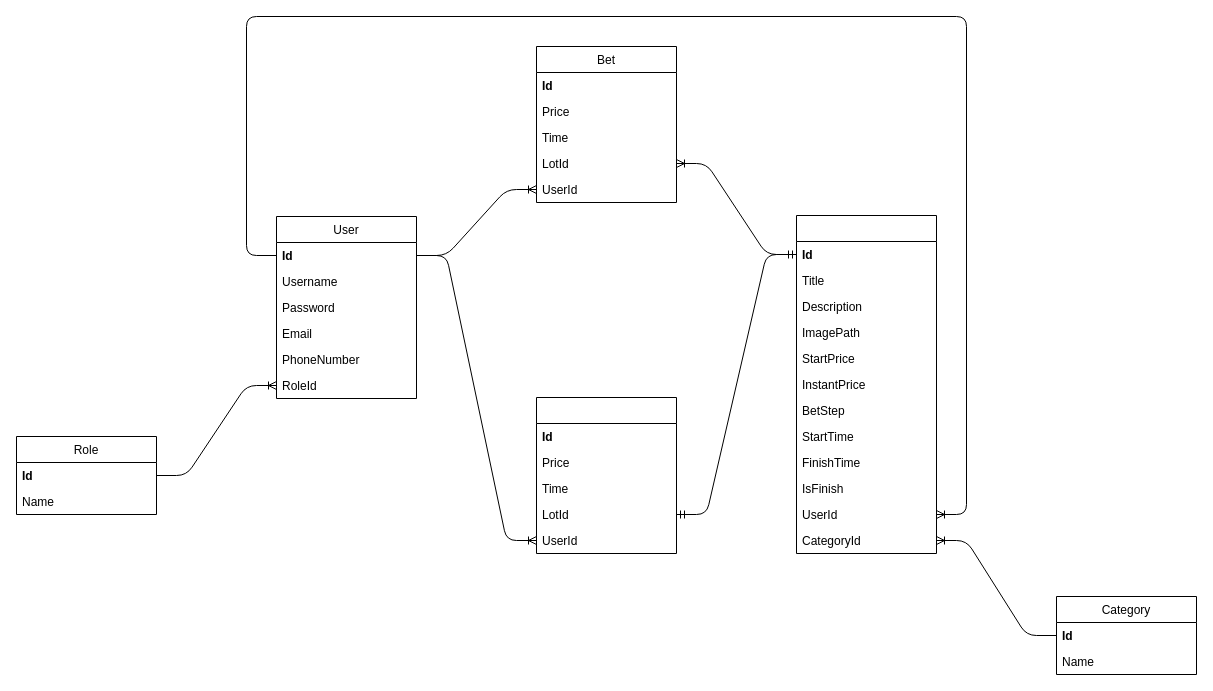
The diagram is 1213 pixels wide and 691 high, and some of its shapes have lost their labels. Here are the shapes that lost their labels. From the top down, the box of each, then its label:
(796, 214, 936, 554): Lot
(536, 396, 676, 554): Win
